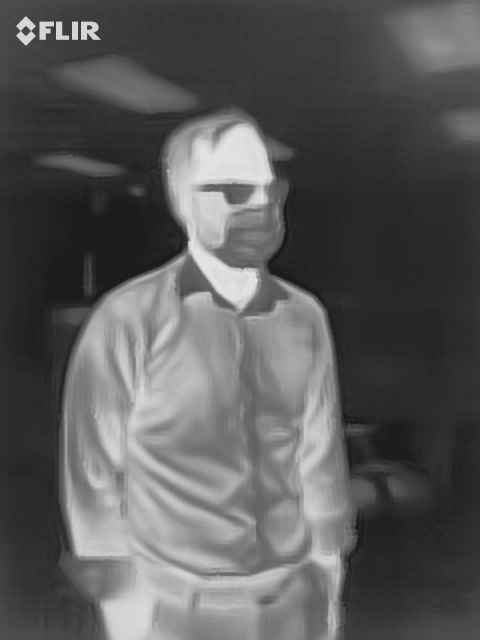head: (159, 106, 291, 269)
